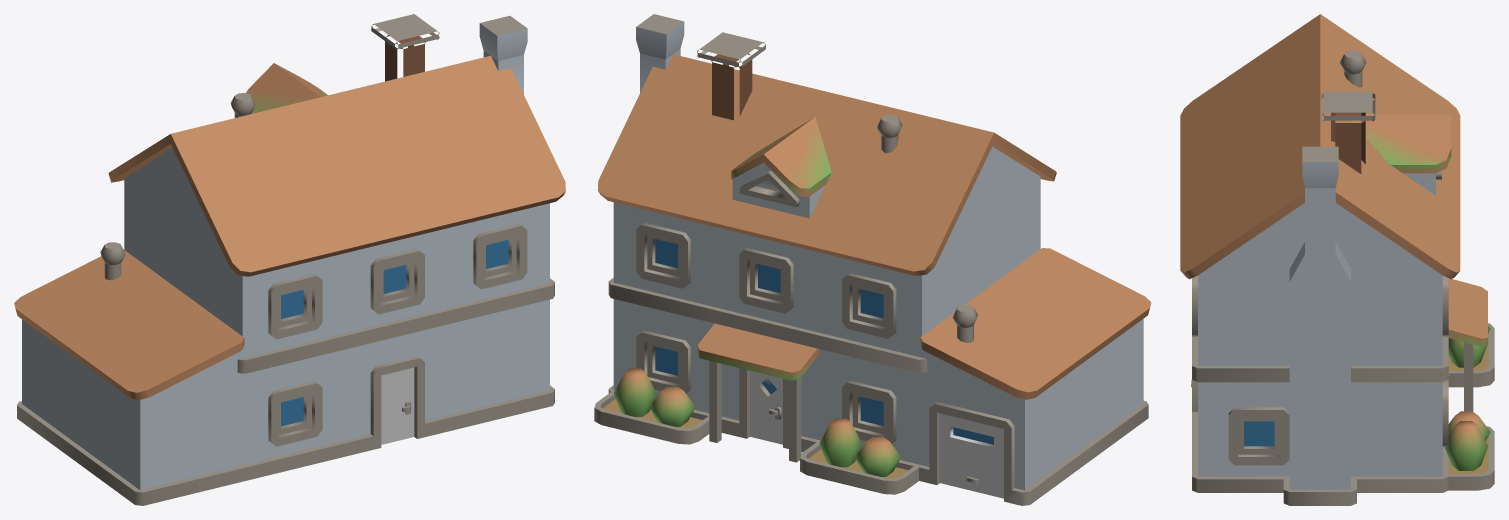
File: house-f.glb
The picture shows the model from 3 angles, left to right: view 1: azimuth 30°, elevation 25°; view 2: azimuth 150°, elevation 25°; view 3: azimuth 270°, elevation 25°; orthographic projection. The views are drawn at different scales.
Parts seen in each view (by area): view 1: house-f; view 2: house-f; view 3: house-f.
Part boxes in pixels (x1,y1,x2,y2): house-f: [14, 14, 565, 505]; house-f: [594, 14, 1151, 505]; house-f: [1180, 14, 1494, 505].
Size of the model in its own units: 0.85 by 0.6148 by 0.4975.
